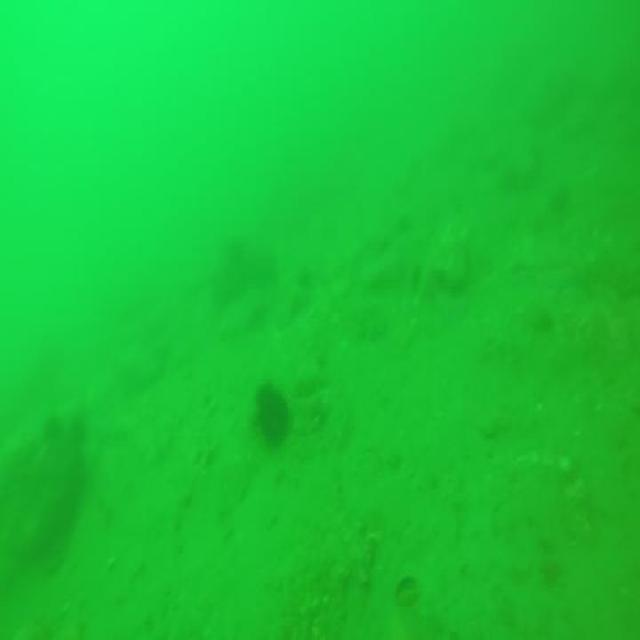echinus: (252, 379, 290, 447)
scallop: (392, 572, 419, 607)
